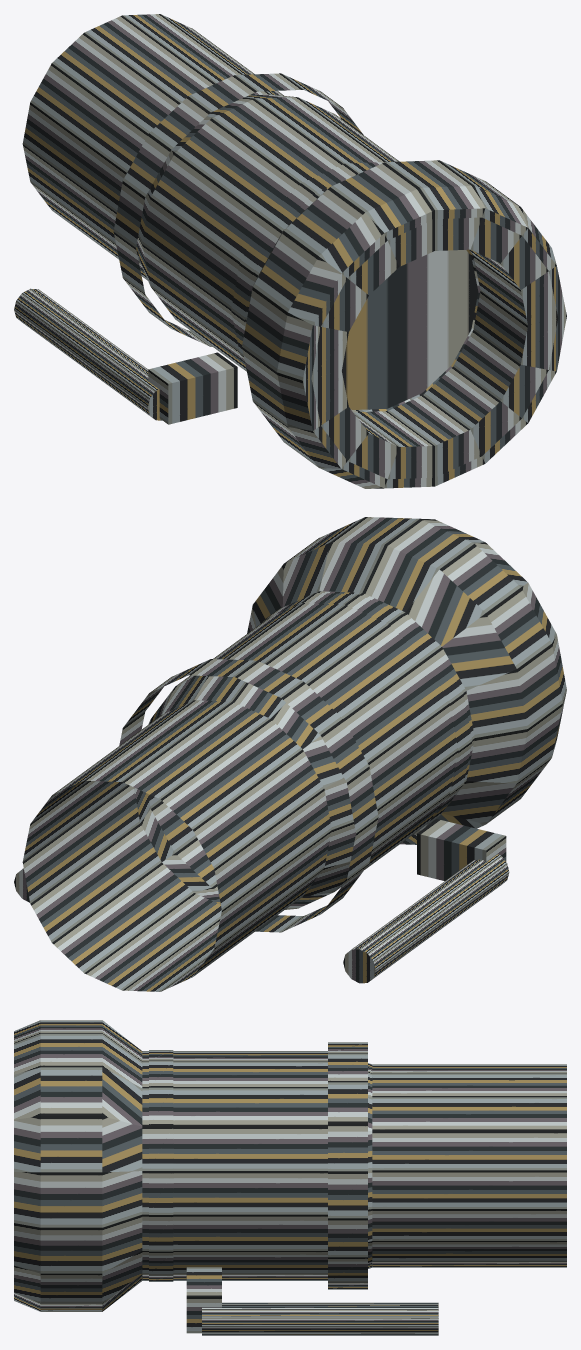
Rendered from CarrierHeavyTurretBarrel.obj.
The picture shows the model from 3 angles, top to bottom: view 1: azimuth 30°, elevation 25°; view 2: azimuth 150°, elevation 25°; view 3: azimuth 270°, elevation 25°; orthographic projection. The views are drawn at different scales.
Parts seen in each view (by area): view 1: CarrierHeavyTurretBarrel; view 2: CarrierHeavyTurretBarrel; view 3: CarrierHeavyTurretBarrel.
Part boxes in pixels (left/top/right/bottom): CarrierHeavyTurretBarrel: left=14, top=14, right=566, bottom=488; CarrierHeavyTurretBarrel: left=14, top=517, right=566, bottom=991; CarrierHeavyTurretBarrel: left=14, top=1020, right=566, bottom=1335.
Size of the model in its own units: 1.67 by 1.32 by 2.5.
1 material, 1 textured.
